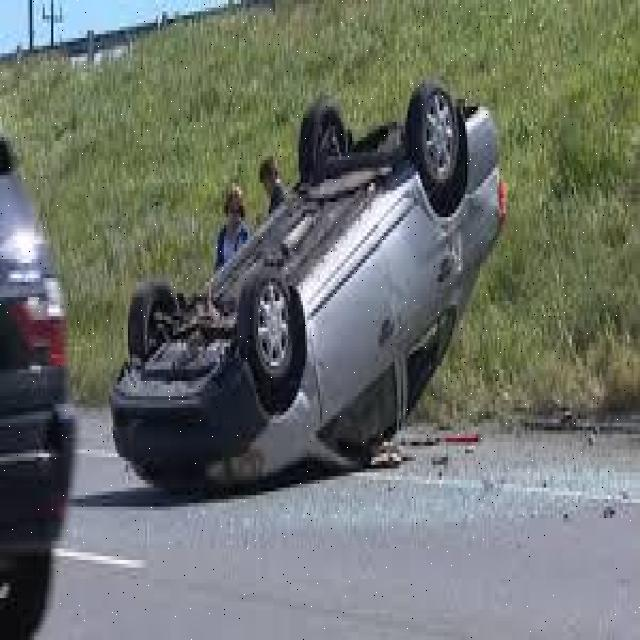severe: (106, 80, 511, 499)
